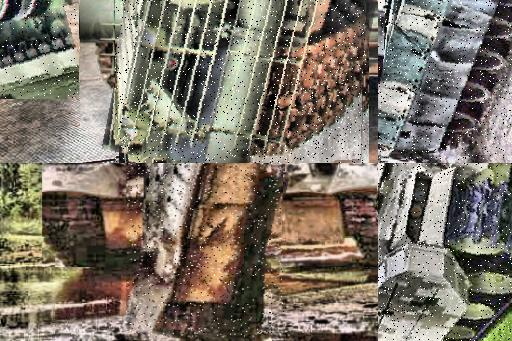tanks: (116, 1, 367, 164), (128, 164, 285, 338), (379, 164, 512, 341), (379, 1, 512, 161), (1, 1, 79, 99)
